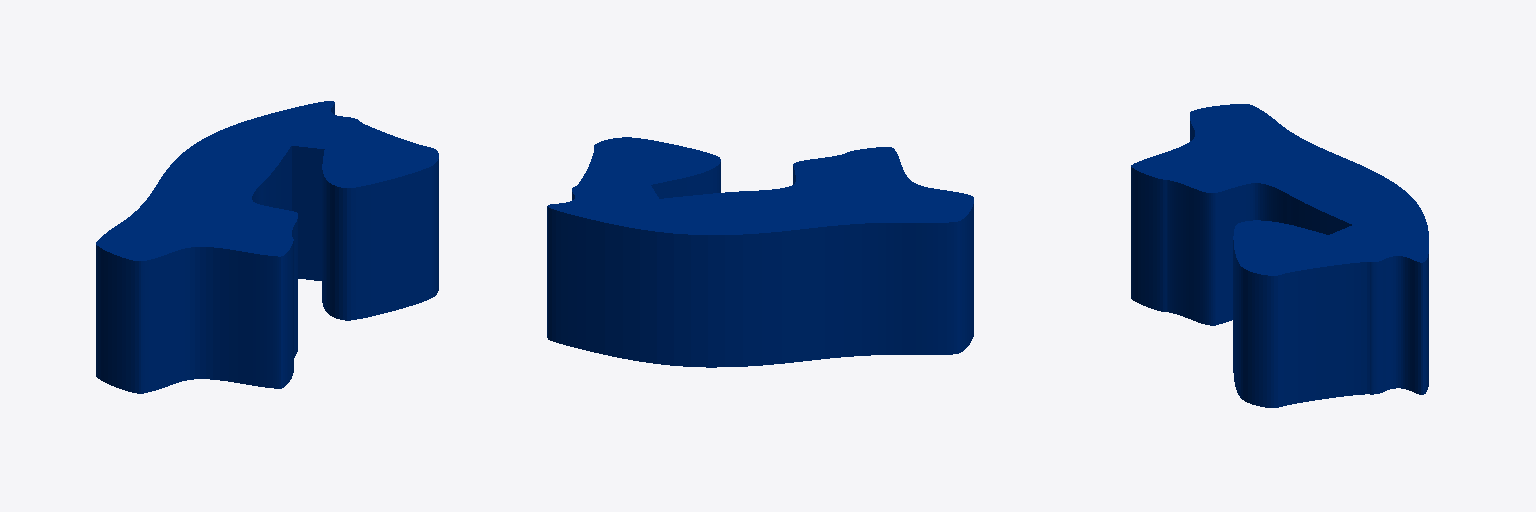
Rendered from Europe_04.obj.
The picture shows the model from 3 angles: view 1: azimuth 30°, elevation 25°; view 2: azimuth 150°, elevation 25°; view 3: azimuth 270°, elevation 25°; orthographic projection.
Parts seen in each view (by area): view 1: Europe_04_path4236; view 2: Europe_04_path4236; view 3: Europe_04_path4236.
Boxes of the visible parts, box(x1,y1,x2,y2) form: Europe_04_path4236: box(96, 101, 438, 393); Europe_04_path4236: box(547, 137, 973, 367); Europe_04_path4236: box(1131, 104, 1428, 407).
Size of the model in its own units: 0.2787 by 0.1 by 0.2044.